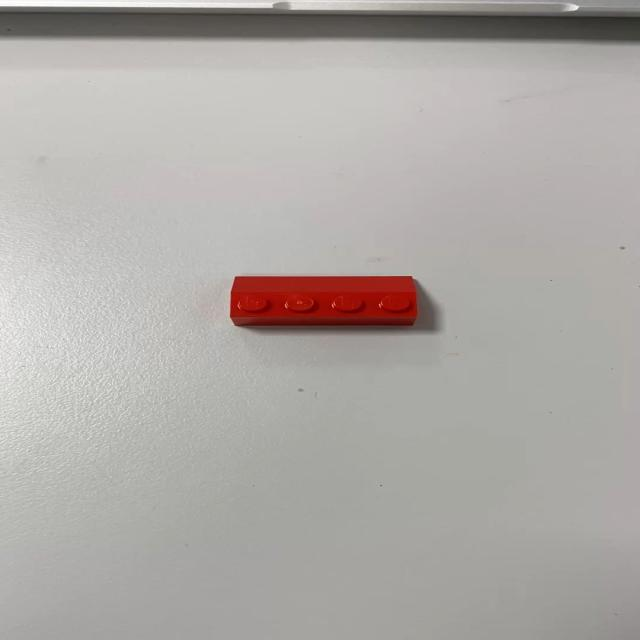P4x2x1: (228, 275, 419, 326)
